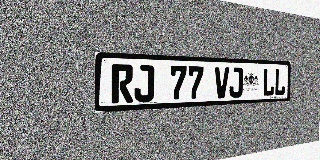7: (169, 66, 187, 101), (187, 66, 204, 100)
J: (134, 65, 154, 102), (229, 67, 243, 98)
L: (262, 68, 275, 96), (274, 68, 286, 96)
R: (111, 64, 133, 103)
V: (214, 67, 229, 99)
